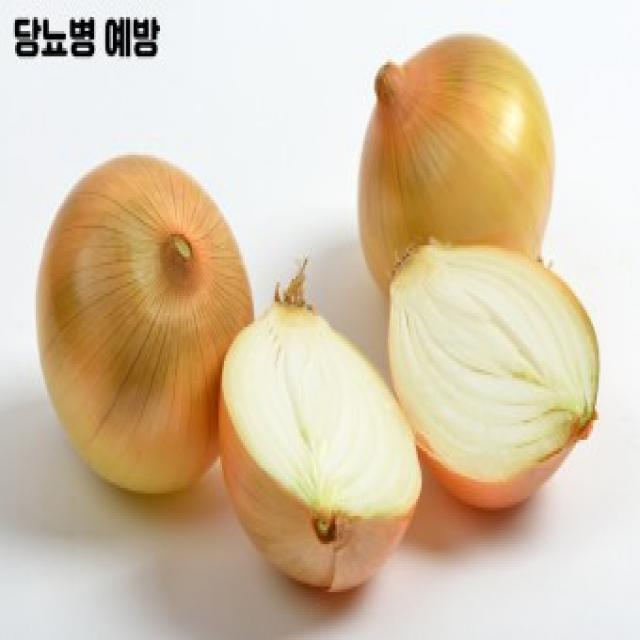Onion: (38, 152, 254, 497), (219, 257, 420, 593), (387, 239, 602, 512), (359, 33, 553, 291)
